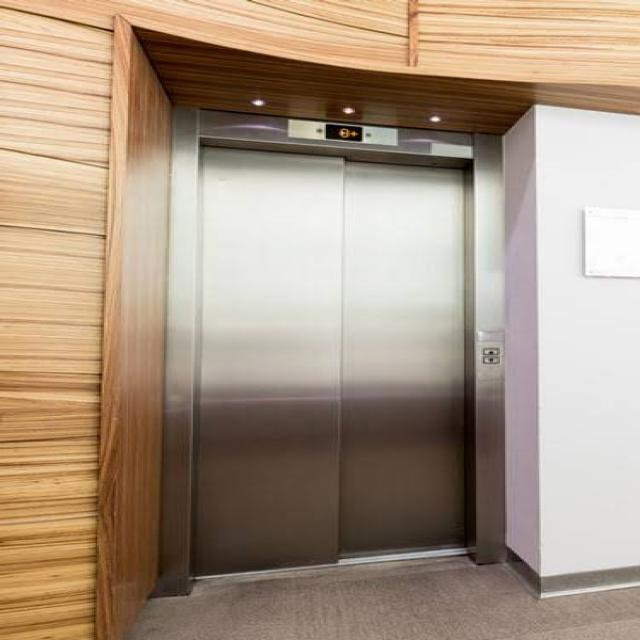elevator: (163, 88, 527, 597)
